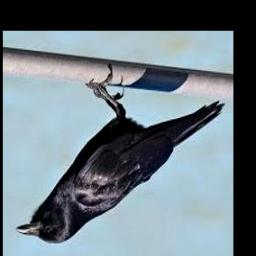Crow: (15, 75, 225, 244)
